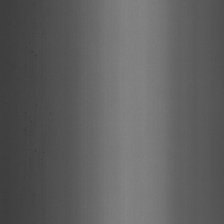inclusion: (28, 146, 44, 161), (24, 105, 31, 132), (29, 48, 38, 60), (39, 27, 45, 38)
